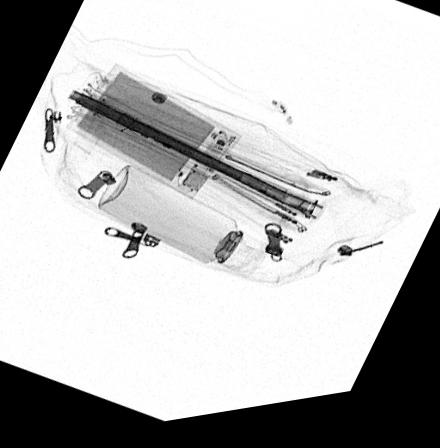Lighter: (274, 109, 294, 134)
Powerbank: (67, 67, 241, 204)
Sprayer: (97, 169, 269, 285)
